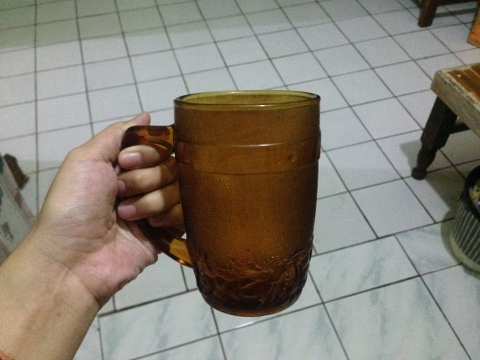tempat minum: (120, 89, 322, 318)
